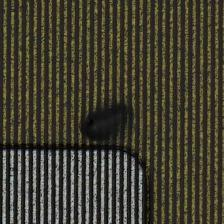PARTICLE: (78, 97, 141, 149)
